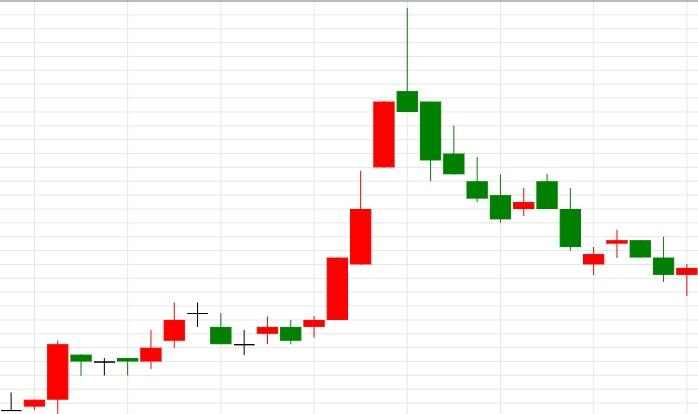evening_star_fall: (94, 302, 232, 376)
shooting_star_fall: (304, 7, 418, 337)
